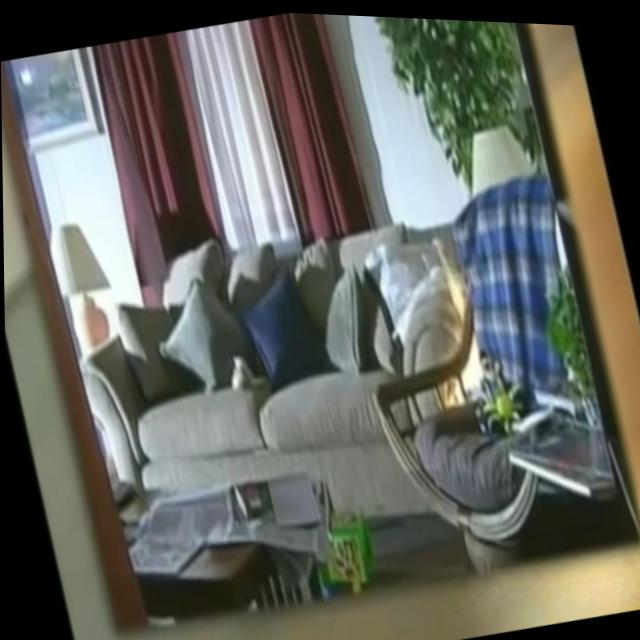fire: (399, 216, 496, 407)
